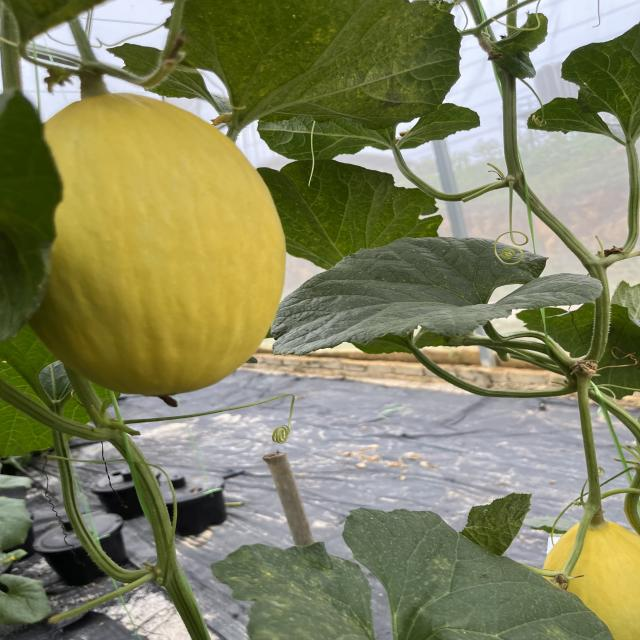CMV: (163, 0, 476, 137), (268, 159, 436, 270)
downy mildew: (345, 508, 607, 640), (210, 540, 369, 640)
powdery mildew: (274, 233, 599, 344)
